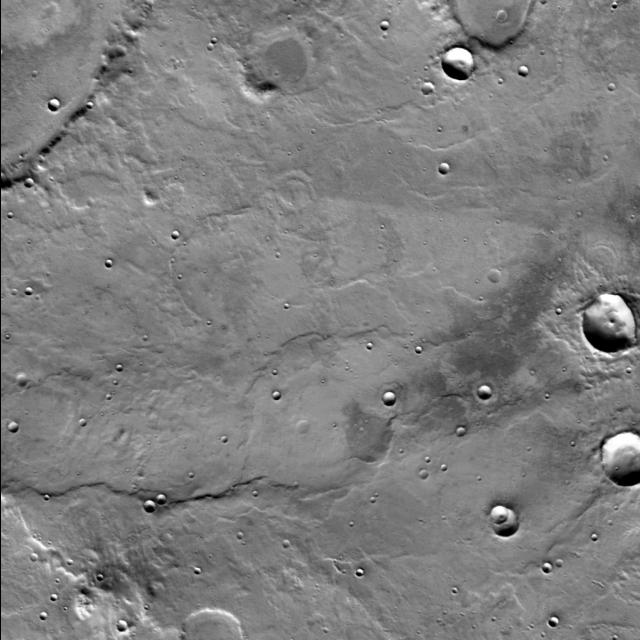crater: (250, 20, 316, 89), (582, 289, 637, 346), (181, 600, 242, 640), (601, 426, 640, 478), (443, 41, 475, 73), (493, 502, 519, 530), (491, 499, 509, 518), (476, 377, 492, 392), (383, 385, 397, 399), (15, 366, 29, 380), (48, 91, 62, 105), (488, 262, 501, 276), (297, 412, 309, 426), (144, 493, 156, 506), (424, 76, 436, 88), (518, 58, 530, 70), (437, 160, 448, 171), (550, 610, 560, 622), (118, 614, 128, 625), (542, 556, 552, 566), (381, 14, 391, 24), (8, 414, 18, 424), (356, 561, 366, 571), (156, 488, 166, 498), (499, 2, 509, 12), (456, 420, 466, 430), (24, 171, 34, 181), (272, 382, 280, 392), (420, 462, 428, 471), (31, 546, 38, 556), (78, 410, 86, 418), (416, 338, 424, 346), (366, 334, 374, 342), (172, 224, 180, 232), (104, 253, 112, 261), (24, 281, 32, 289), (186, 568, 194, 576), (276, 540, 284, 547), (200, 44, 207, 52), (213, 436, 220, 444), (230, 533, 237, 541), (434, 464, 441, 472), (577, 383, 584, 391), (35, 612, 41, 620), (584, 534, 590, 542), (550, 559, 556, 567), (44, 594, 50, 602), (91, 574, 97, 582), (109, 364, 115, 372), (26, 70, 32, 78), (99, 394, 105, 400)
